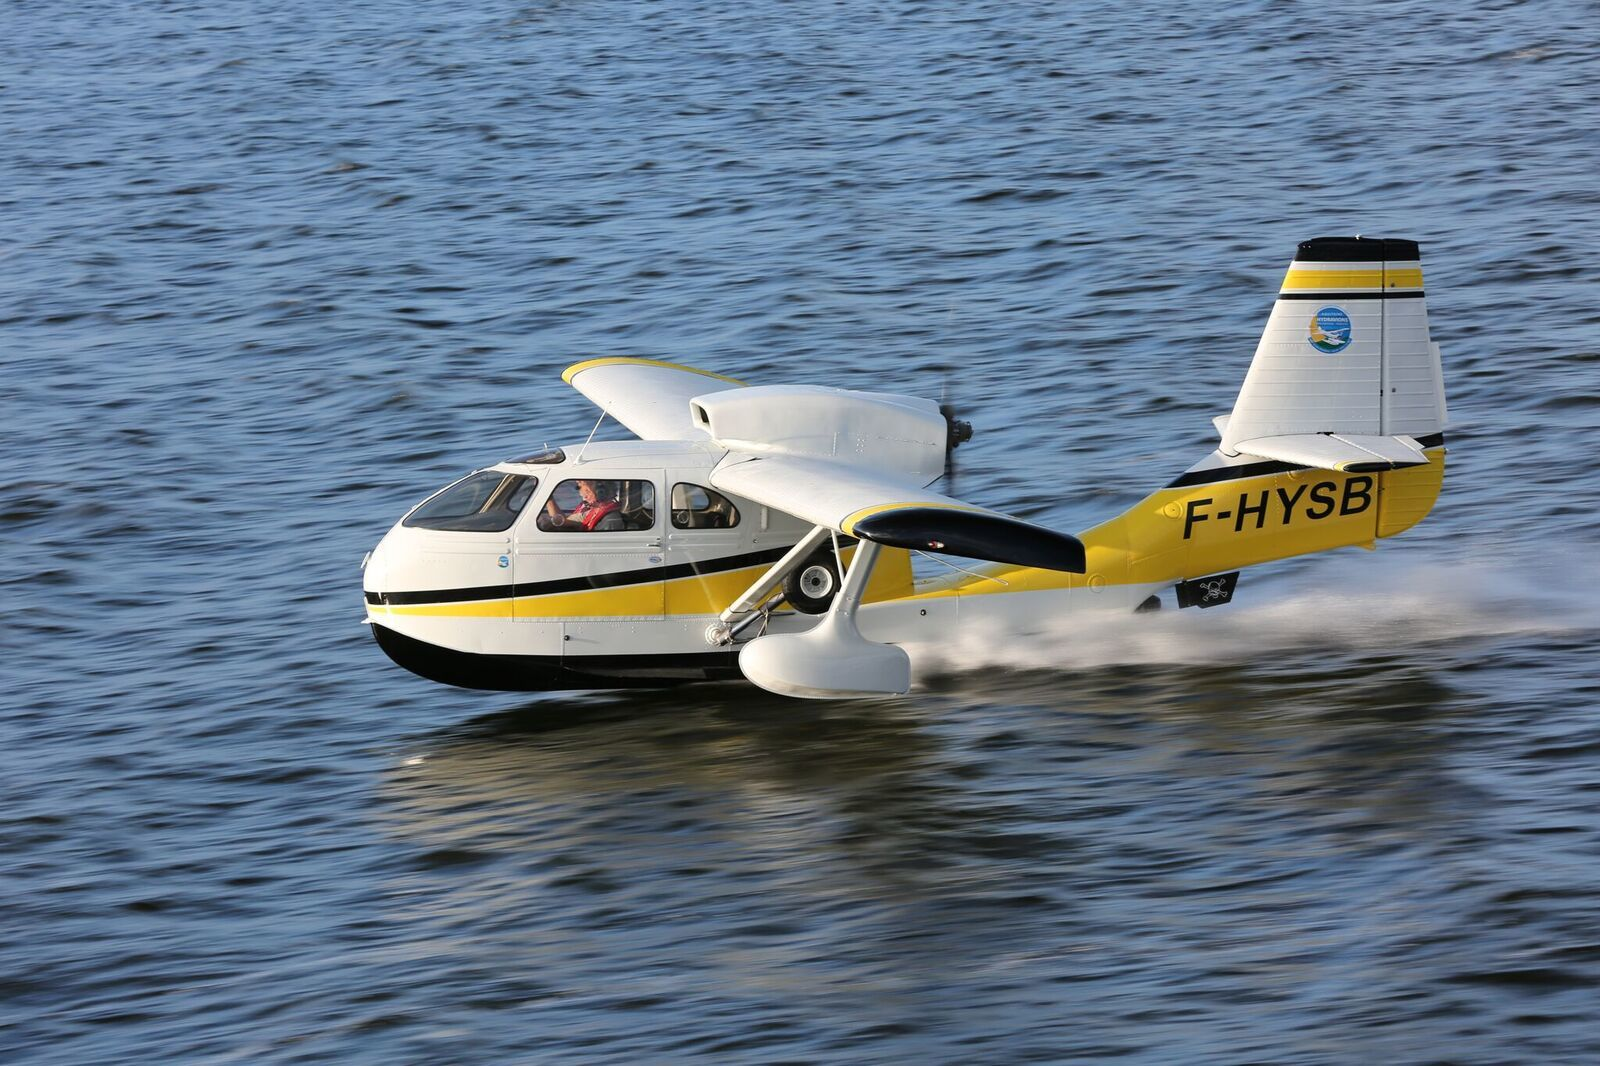Aeronef_de_loisir: (353, 221, 1502, 744)
